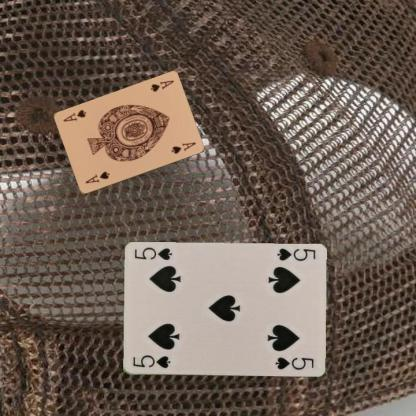5s: (130, 352, 171, 370), (274, 246, 316, 262)
As: (83, 169, 110, 185), (148, 78, 175, 94)
